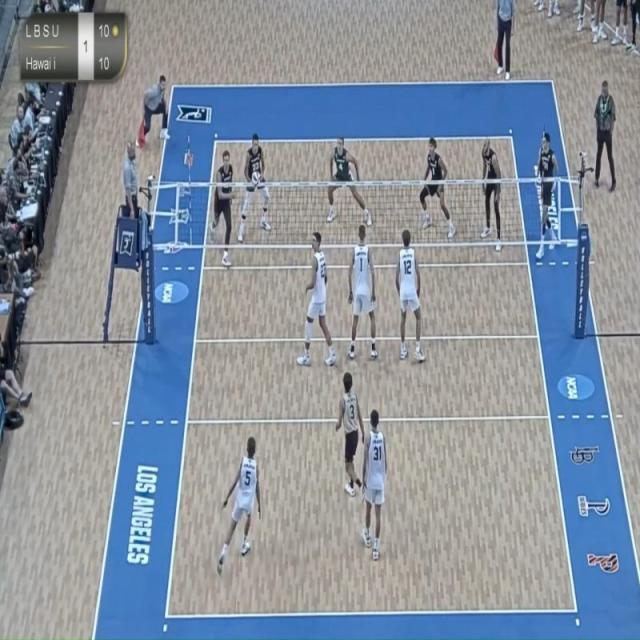volleyball: (248, 165, 263, 190)
